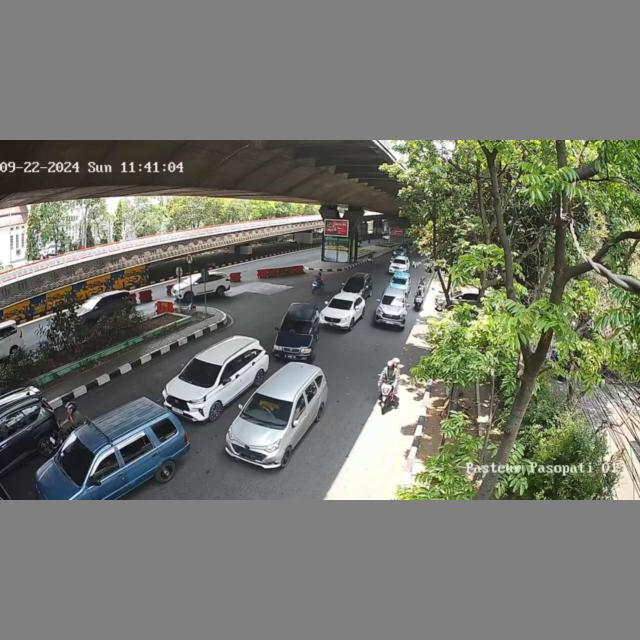windshield: (243, 392, 293, 426), (182, 356, 221, 384), (281, 317, 313, 335), (328, 296, 354, 311), (382, 293, 404, 306), (391, 276, 409, 285)
